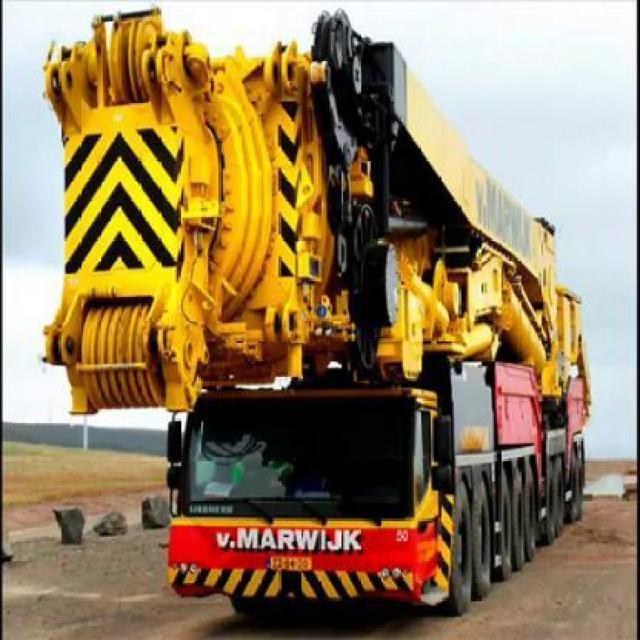Mobile Crane: (45, 7, 589, 613)
